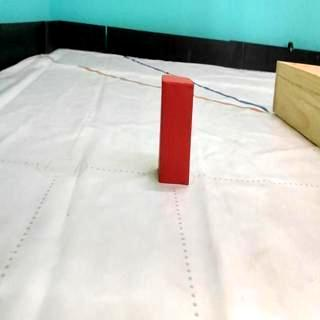redbox: (157, 74, 194, 186)
